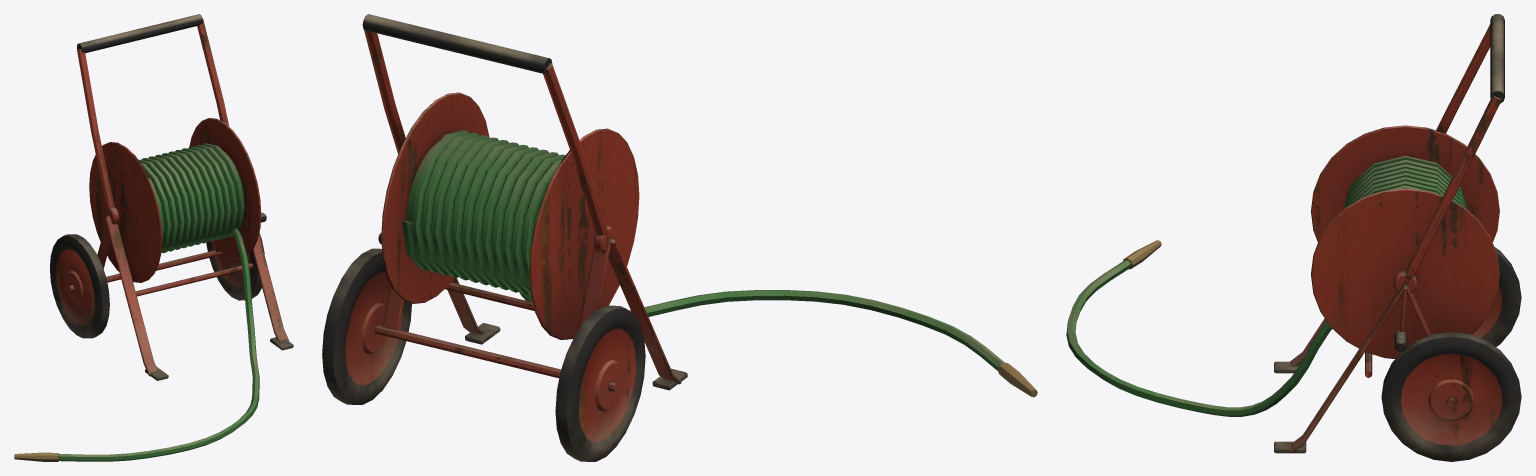
The model's file is hose_reel.glb.
3 renders of one model, left to right at view 1: azimuth 30°, elevation 25°; view 2: azimuth 150°, elevation 25°; view 3: azimuth 270°, elevation 25°, orthographic. The views are drawn at different scales.
Visible parts, largest first — view 1: hose_reel; view 2: hose_reel; view 3: hose_reel.
Boxes of the visible parts, x1,y1,x2,y2 form: hose_reel: [14, 14, 293, 461]; hose_reel: [322, 14, 1037, 461]; hose_reel: [1066, 14, 1521, 461].
Bounding box in the file's own units: 1.13 × 0.8607 × 0.9874.
2 materials, 2 textured.
